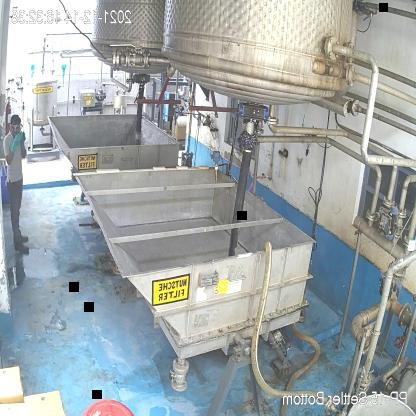goggles: (11, 122, 24, 132)
